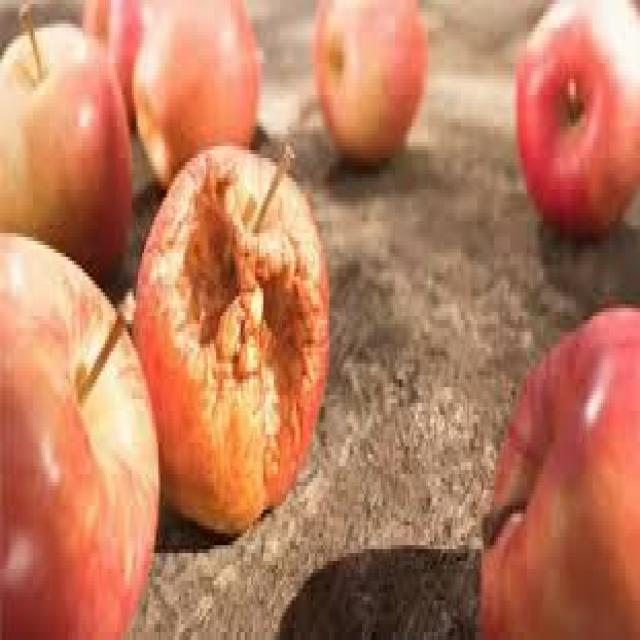organic waste: (130, 134, 329, 534), (0, 225, 156, 636), (477, 304, 638, 636), (0, 0, 131, 288), (512, 0, 638, 229), (130, 0, 257, 186), (306, 0, 422, 166), (78, 0, 137, 130)
